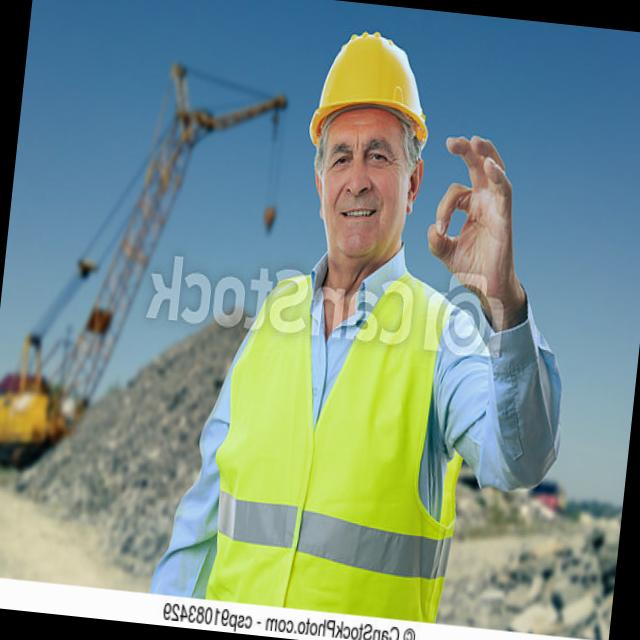helmet: (307, 29, 442, 141)
no-goggles: (311, 128, 426, 182)
vest: (199, 257, 480, 624)
